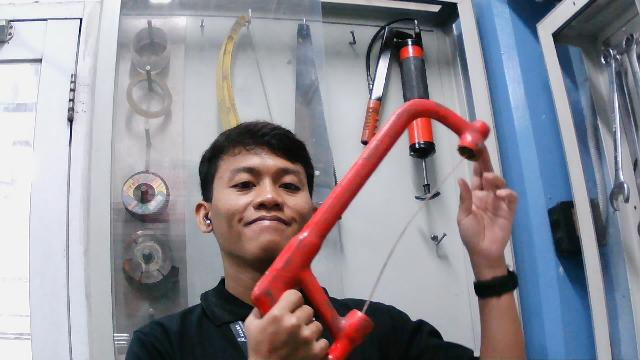gergaji_besi: (247, 95, 491, 360)
